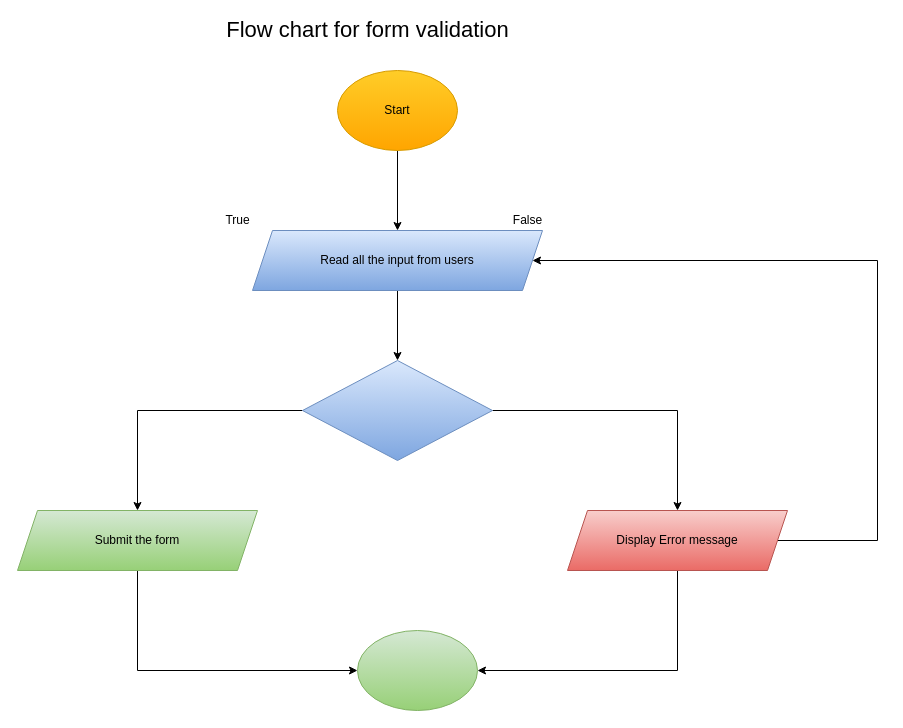
Some shapes in this 903 by 728 pixel diagram are drawn without their labels. Each missing label, with the box of its shape:
Check all the given input fields are valid or not: (302, 360, 492, 460)
Stop: (356, 630, 478, 710)
